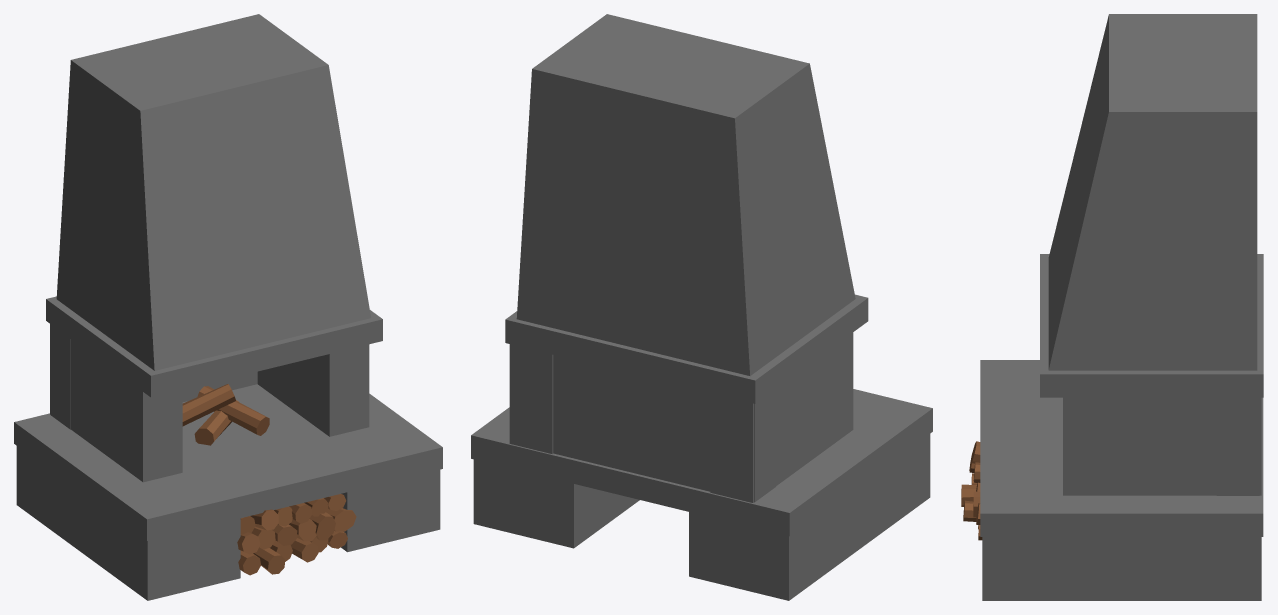
Rendered from cheminey.glb.
3 renders of one model, left to right at view 1: azimuth 30°, elevation 25°; view 2: azimuth 150°, elevation 25°; view 3: azimuth 270°, elevation 25°, orthographic. The views are drawn at different scales.
Parts seen in each view (by area): view 1: Cheminey; view 2: Cheminey; view 3: Cheminey.
Part boxes in pixels (x1,y1,x2,y2): Cheminey: (14,14,442,600); Cheminey: (471,14,932,600); Cheminey: (961,14,1263,600).
Bounding box in the file's own units: 5.21 × 7.3 × 4.33.
